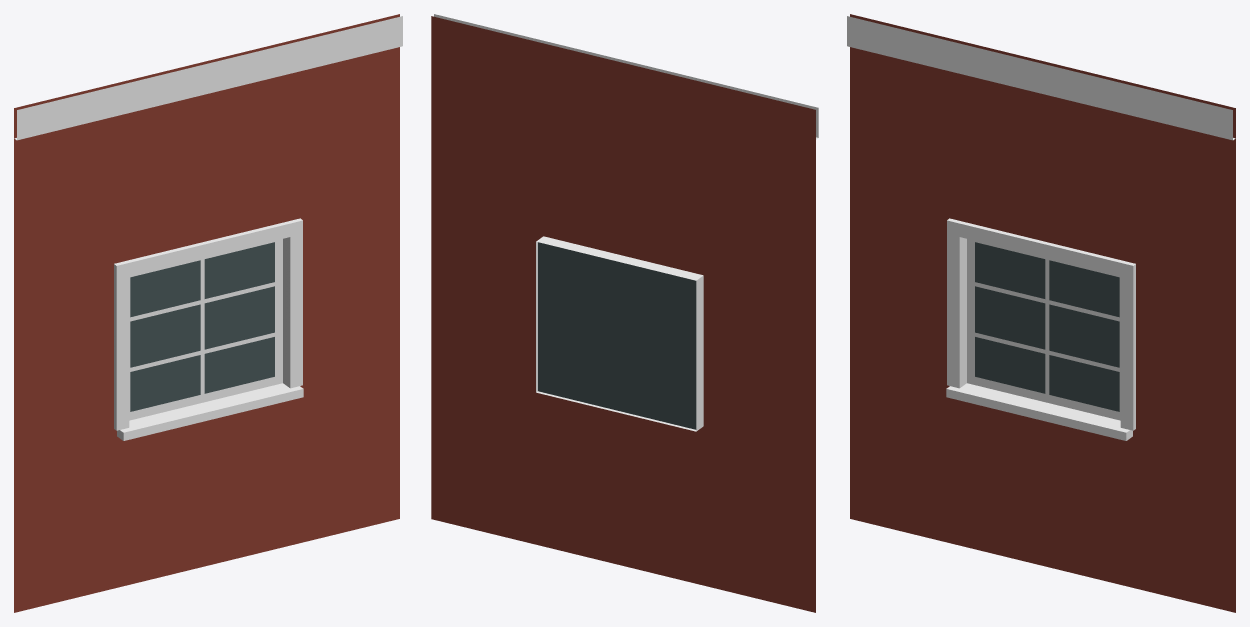
The model's file is top-w3.fbx.
The picture shows the model from 3 angles, left to right: view 1: azimuth 30°, elevation 25°; view 2: azimuth 150°, elevation 25°; view 3: azimuth 330°, elevation 25°; orthographic projection.
Parts seen in each view (by area): view 1: a2015/600/top-w3; view 2: a2015/600/top-w3; view 3: a2015/600/top-w3.
Boxes of the visible parts, <box> form: a2015/600/top-w3: <box>14,14,402,612</box>; a2015/600/top-w3: <box>431,14,818,612</box>; a2015/600/top-w3: <box>847,14,1235,612</box>.
Size of the model in its own units: 2.4 by 3 by 0.15.
